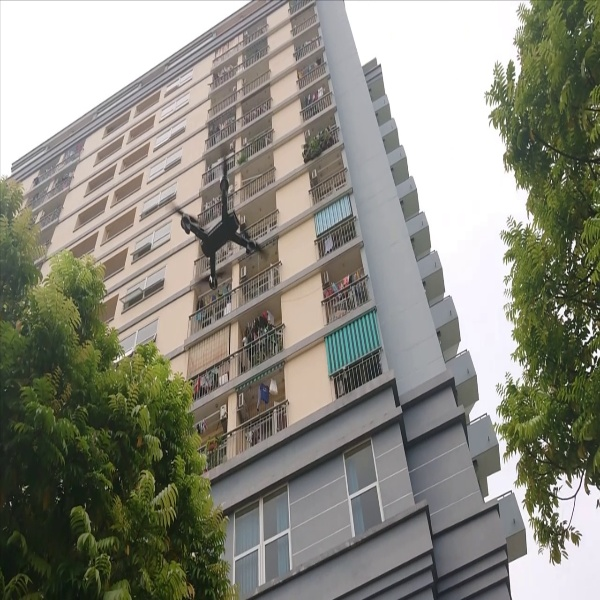drone: (171, 157, 267, 295)
